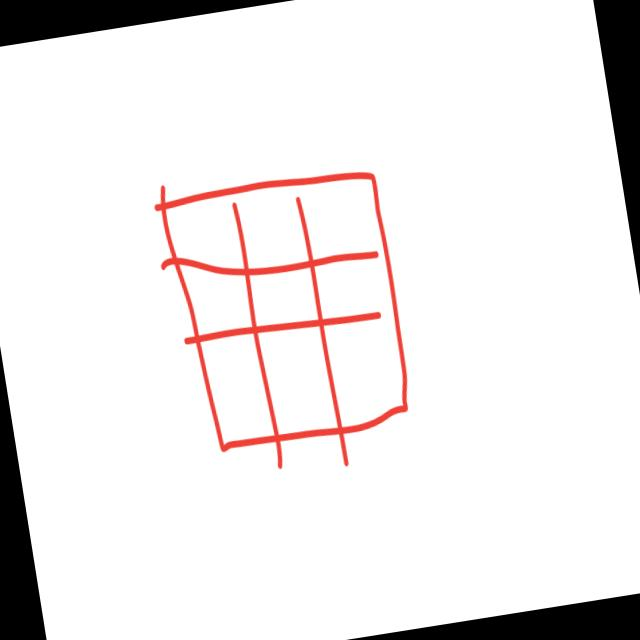grid: (149, 154, 429, 476)
